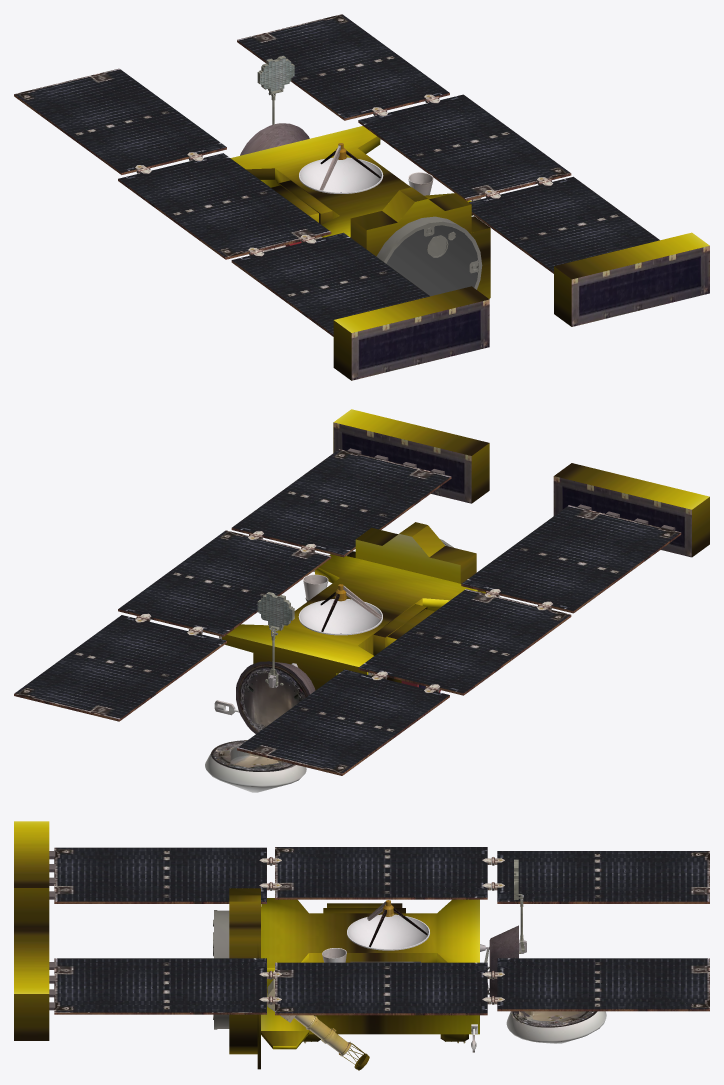
Rendered from stardust.glb.
The picture shows the model from 3 angles, top to bottom: view 1: azimuth 30°, elevation 25°; view 2: azimuth 150°, elevation 25°; view 3: azimuth 270°, elevation 25°; orthographic projection.
Parts seen in each view (by area): view 1: shiny_panels, gold_foil, foil_silver, Stardust_tex_02, Stardust_tex_03; view 2: shiny_panels, gold_foil, Stardust_tex_03, Stardust_tex_02; view 3: shiny_panels, gold_foil, Stardust_tex_03, Stardust_tex_02.
Part boxes in pixels (left/top/right/bottom): shiny_panels: left=14, top=14, right=709, bottom=380; gold_foil: left=230, top=126, right=709, bottom=380; foil_silver: left=386, top=225, right=477, bottom=296; Stardust_tex_02: left=257, top=56, right=482, bottom=289; Stardust_tex_03: left=299, top=143, right=383, bottom=193; shiny_panels: left=14, top=422, right=691, bottom=792; gold_foil: left=222, top=409, right=709, bottom=690; Stardust_tex_03: left=211, top=584, right=382, bottom=771; Stardust_tex_02: left=257, top=539, right=453, bottom=692; shiny_panels: left=49, top=847, right=709, bottom=1064; gold_foil: left=14, top=821, right=479, bottom=1070; Stardust_tex_03: left=347, top=900, right=597, bottom=1027; Stardust_tex_02: left=54, top=859, right=526, bottom=1056.
Bounding box in the file's own units: 2.94 × 1.45 × 5.01.
Materials: 5 (5 with a texture image).
